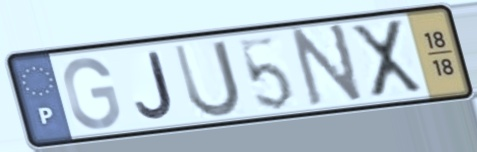5: (234, 32, 297, 111)
G: (60, 55, 124, 132)
J: (132, 48, 178, 122)
N: (289, 20, 367, 110)
U: (169, 37, 244, 121)
X: (346, 16, 427, 102)
